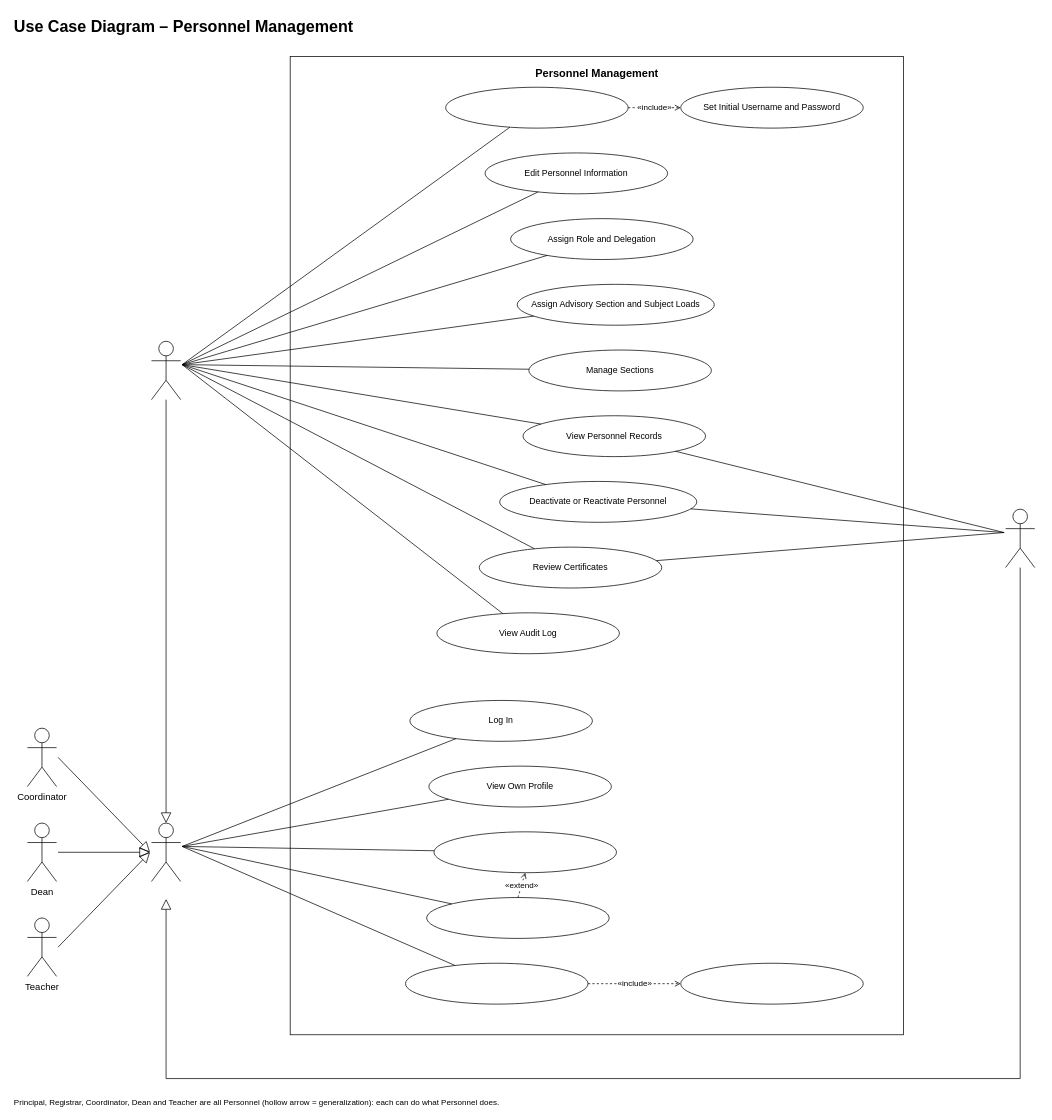
Image size: 1052x1120. Some labels were removed from this diagram. Here are the shapes that lost their labels. From the top down, the box of each, then its label:
(445, 87, 628, 128): Add Personnel Account
(151, 341, 181, 400): Principal
(1005, 508, 1035, 568): Registrar
(151, 822, 181, 881): Personnel
(433, 831, 616, 873): Update Personal Profile
(426, 897, 609, 938): Upload Profile Photo
(405, 963, 588, 1004): Upload Certificate
(680, 963, 863, 1004): Read and Validate Certificate
